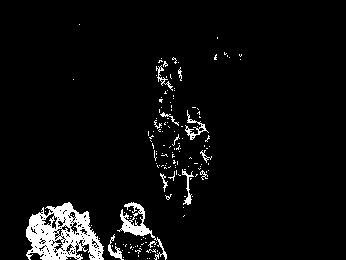person: (106, 201, 168, 260), (148, 101, 181, 199), (179, 104, 210, 206)
